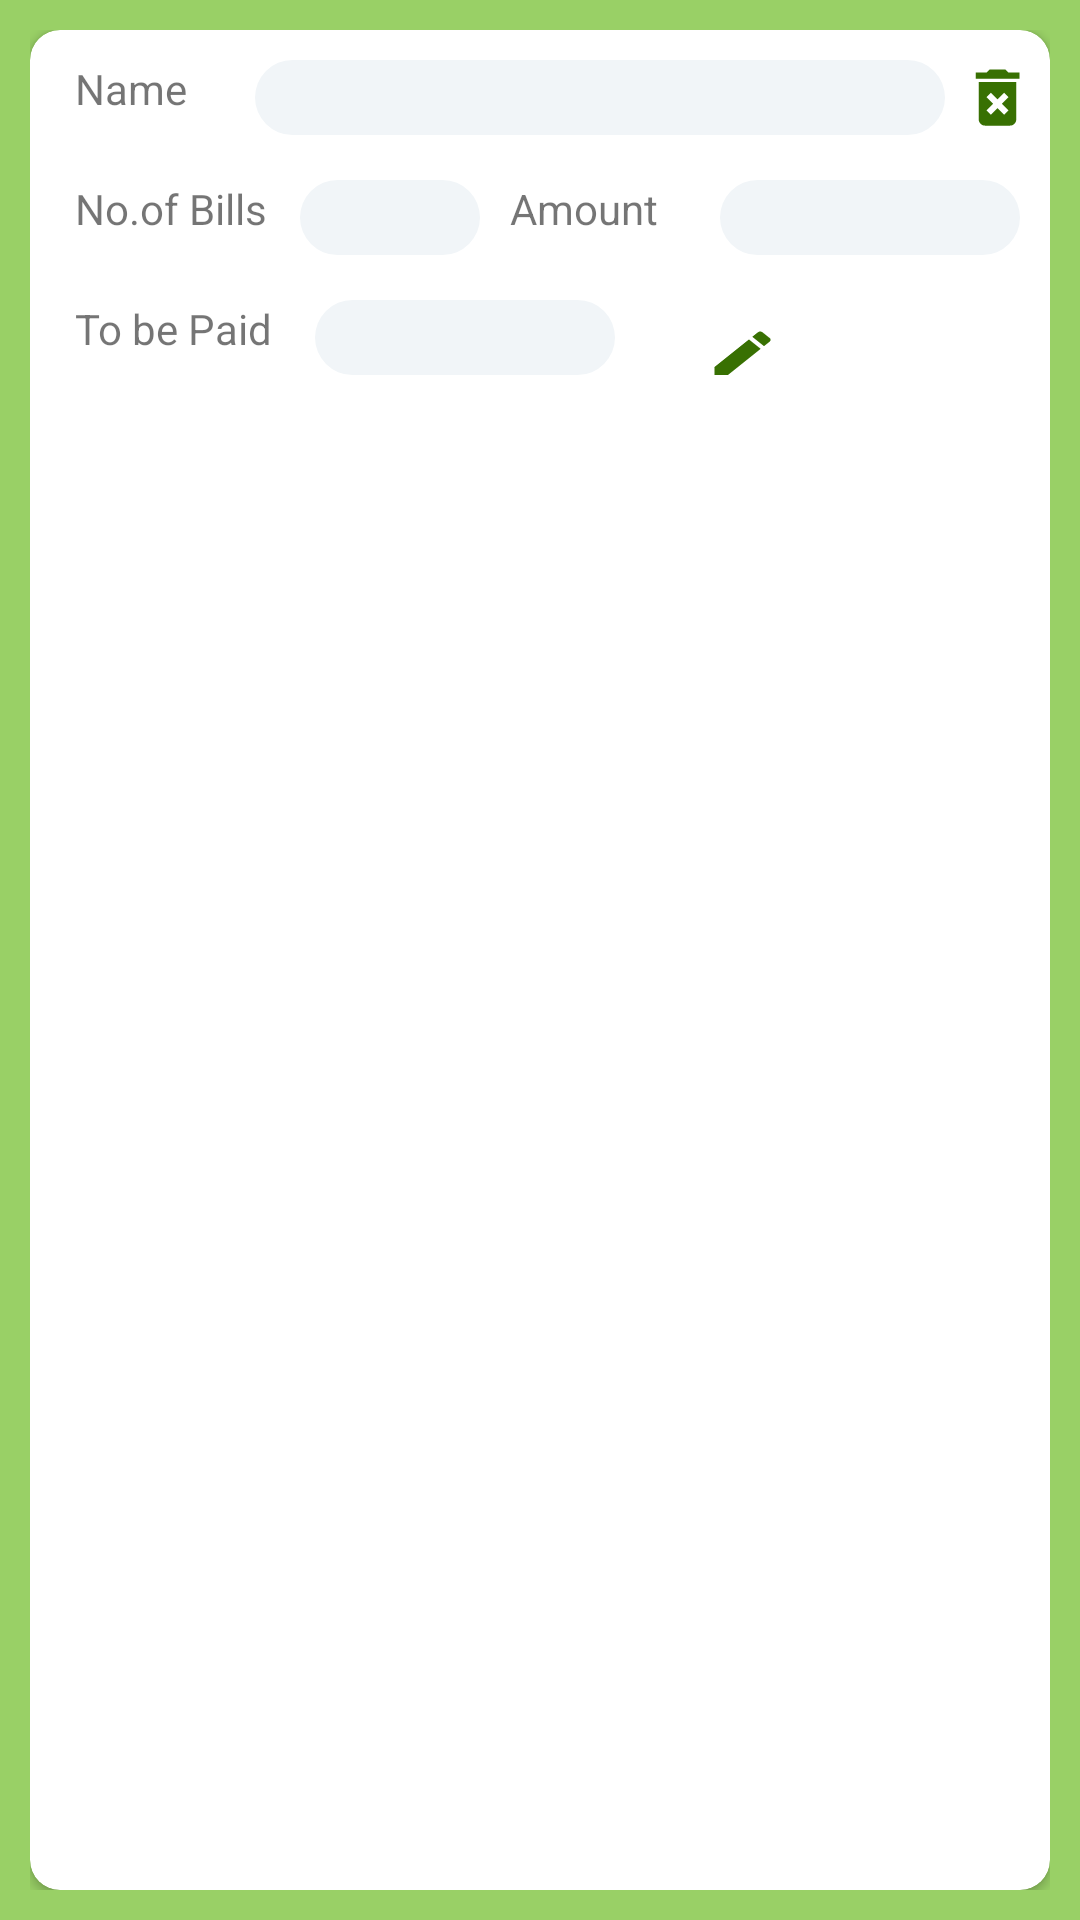

Screen size 1080px×1920px. Icon name, then its center in pixels as (x,y):
delete forever: (997,97)
edit: (742,353)
